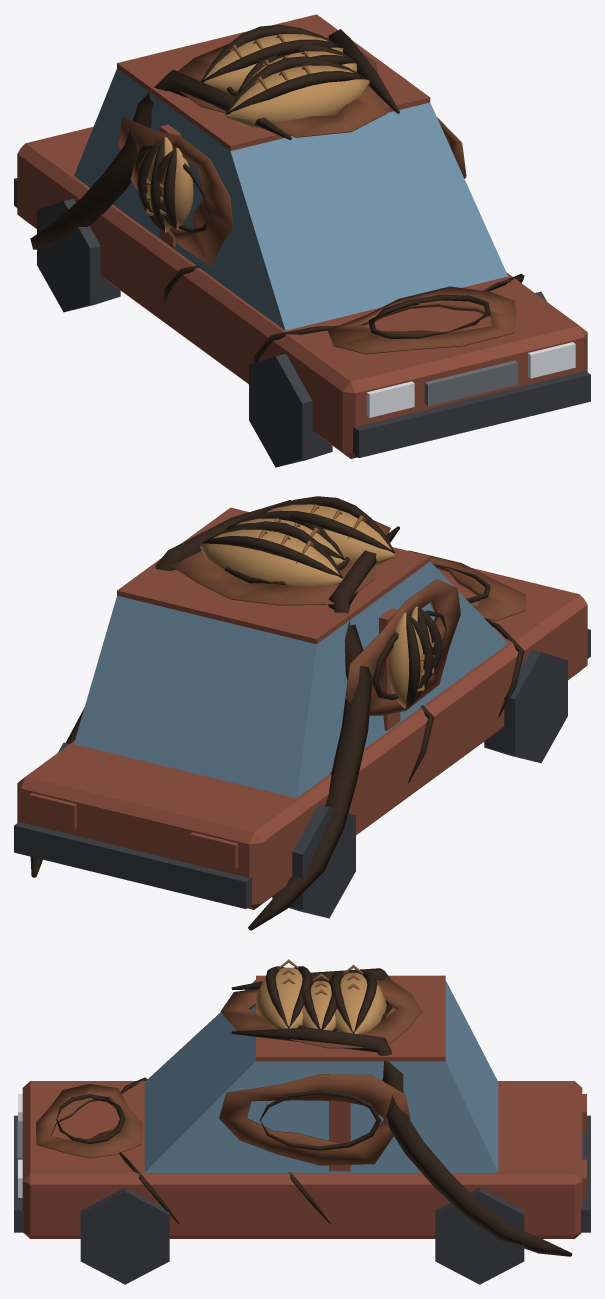
The model's file is prop-car-hatchback-infested-3.glb.
3 views of the same model, one above another, from view 1: azimuth 30°, elevation 25°; view 2: azimuth 150°, elevation 25°; view 3: azimuth 270°, elevation 25° (orthographic). The views are drawn at different scales.
Visible parts, largest first — view 1: greenhouse, host_growth, painted-body, bumper-1, painted-roof, tyre-0.57--1, tyre--0.57--1, grille, light-1--1, light-1-1; view 2: greenhouse, painted-body, host_growth, painted-roof, bumper--1, tyre-0.57--1, tyre--0.57--1, light--1--1, light--1-1, window-pillar--1; view 3: painted-body, host_growth, greenhouse, tyre-0.57-1, painted-roof, tyre--0.57-1, window-pillar-1, bumper--1, bumper-1.
Part boxes in pixels (x1,y1,x2,y2): greenhouse: (74, 68, 508, 330); host_growth: (30, 24, 524, 362); painted-body: (17, 126, 587, 458); bumper-1: (353, 370, 590, 457); painted-roof: (117, 14, 430, 150); tyre-0.57--1: (249, 354, 332, 467); tyre--0.57--1: (37, 198, 120, 312); grille: (424, 360, 518, 406); light-1--1: (366, 381, 414, 417); light-1-1: (528, 342, 575, 378); greenhouse: (74, 561, 507, 798); painted-body: (17, 568, 587, 909); host_growth: (30, 496, 525, 930); painted-roof: (117, 507, 430, 644); bumper--1: (14, 821, 251, 908); tyre-0.57--1: (484, 649, 567, 763); tyre--0.57--1: (272, 805, 355, 918); light--1--1: (190, 832, 238, 868); light--1-1: (29, 793, 76, 829); window-pillar--1: (379, 608, 400, 730); painted-body: (22, 1081, 582, 1238); host_growth: (36, 959, 572, 1256); greenhouse: (144, 980, 498, 1172); tyre-0.57-1: (80, 1187, 169, 1284); painted-roof: (256, 975, 445, 1061); tyre--0.57-1: (435, 1187, 524, 1284); window-pillar-1: (329, 1101, 350, 1171); bumper--1: (581, 1115, 590, 1232); bumper-1: (14, 1115, 23, 1232).
Size of the model in its own units: 0.8788 by 0.8896 by 1.85.
